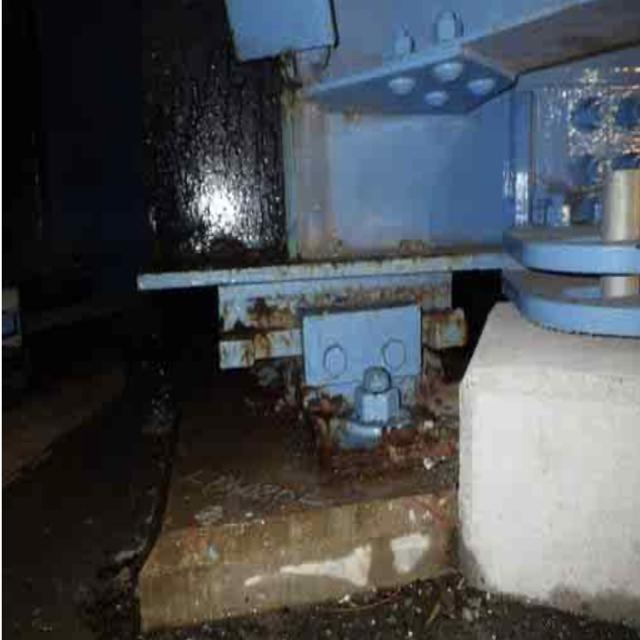corrosion: (224, 289, 453, 480)
